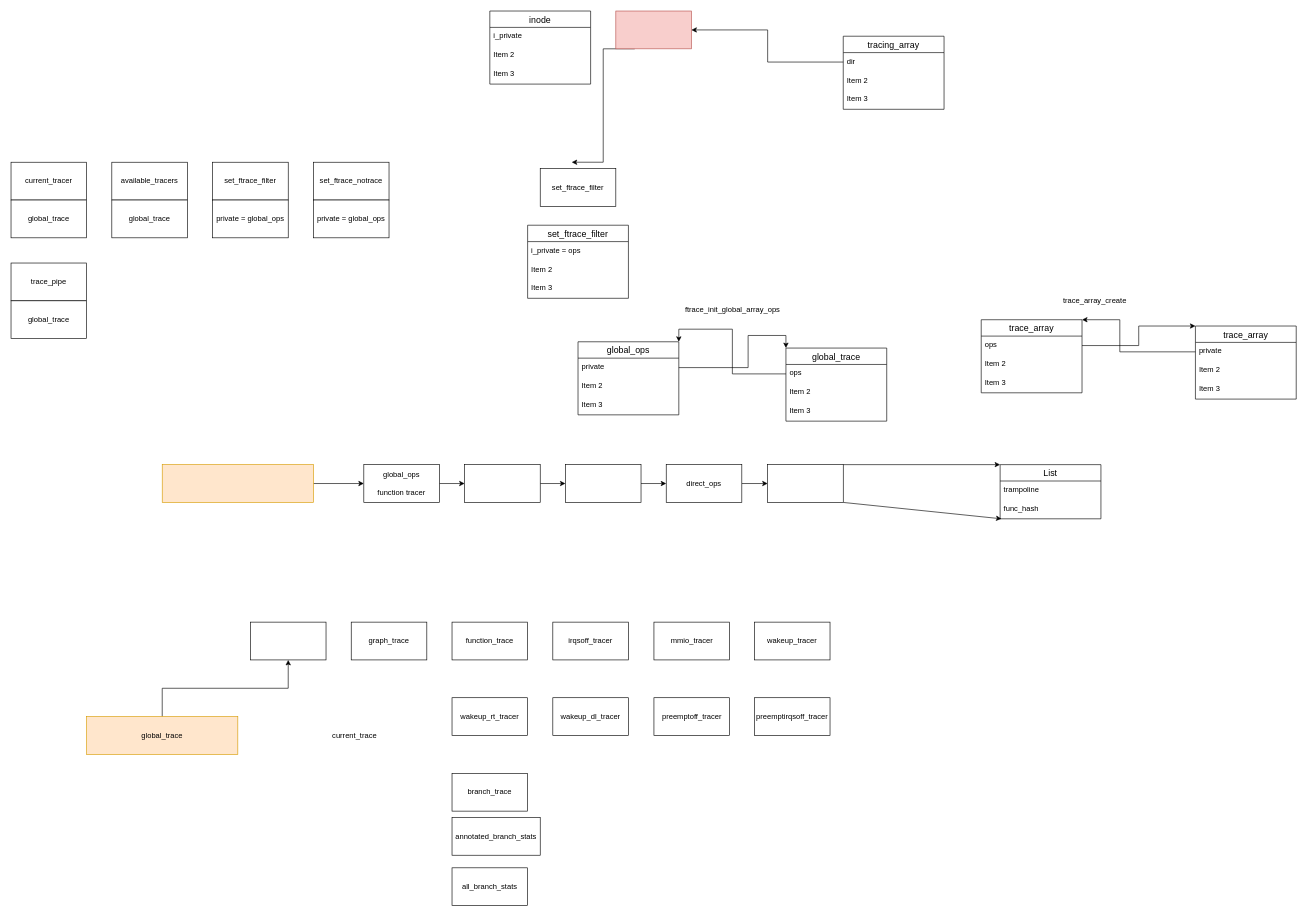
The diagram is 1307 pixels wide and 917 high, and some of its shapes have lost their labels. The shapes that lost their labels are listed below. From the top down, each one's centre as x and y in pixels, then its label:
At point (653, 29): "dentry tracing".
At point (237, 483): "function_trace_op 链表头 只是个指针".
At point (502, 483): "graph_ops".
At point (603, 483): "ftrace_profile_ops".
At point (805, 483): "ftrace_list_end".
At point (288, 640): "blk_tracer".
